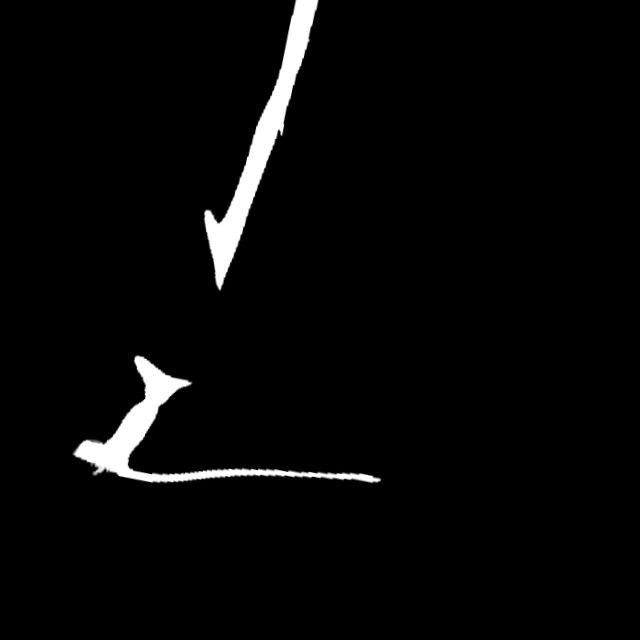sup_pli: (87, 462, 105, 481)
